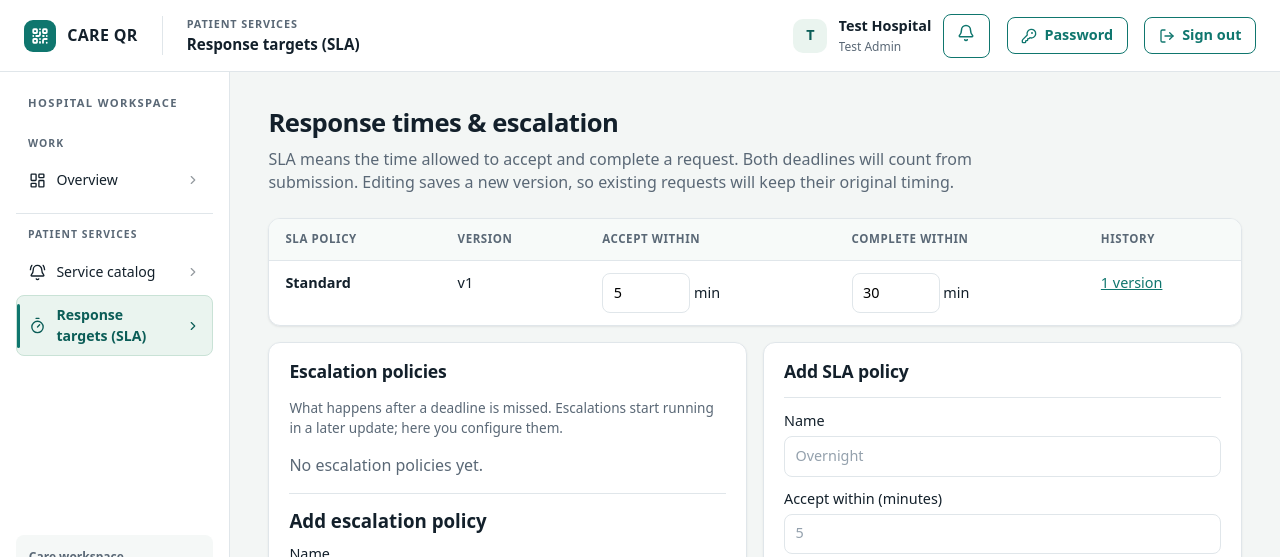
Test: SLA editing interactions › submits one update on repeated clicks and waits for the confirmed server version
The width and height of the screenshot is (1280, 557).
Clear the number field named "Standard accept minutes": [646, 293] box [602,273,690,313]
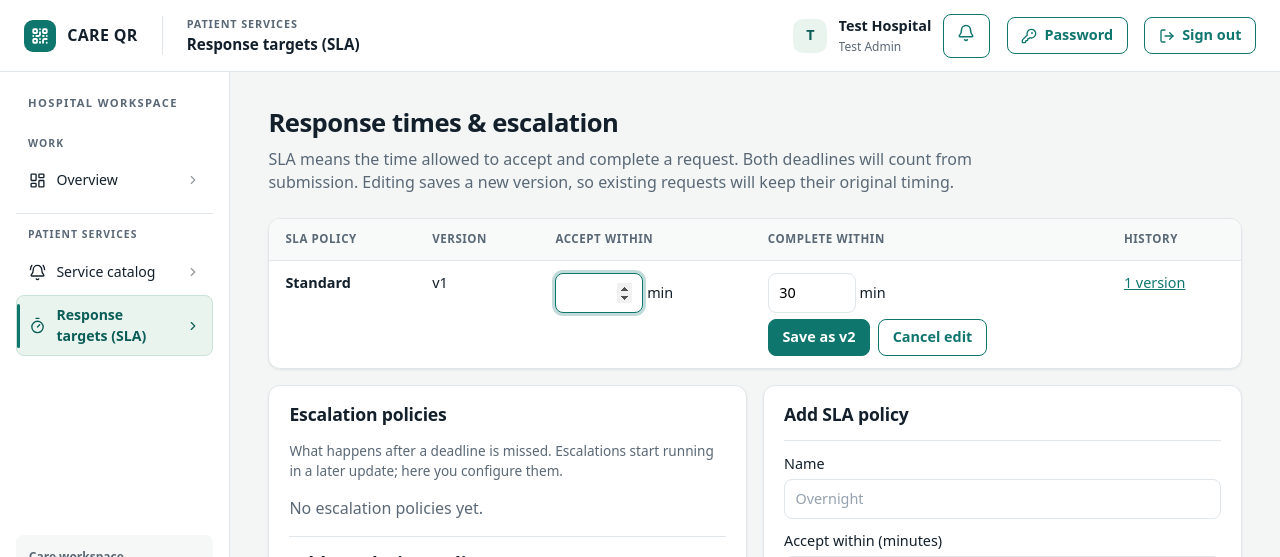
In the number field named "Standard accept minutes": [599, 293] box [555,273,643,313], type "7"
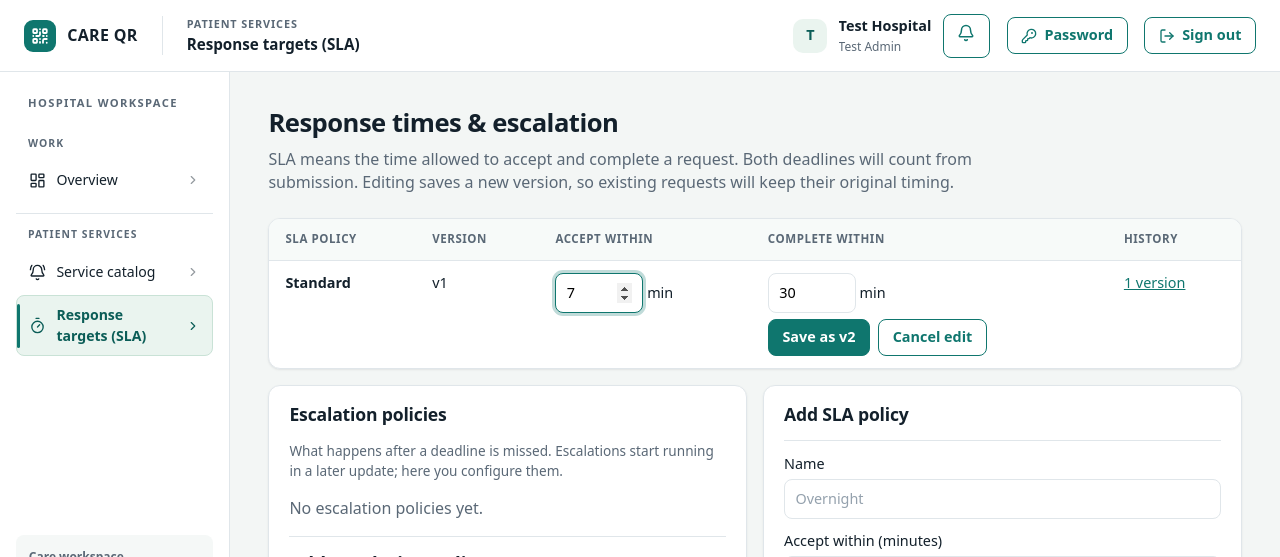
Double-click the button "Save as v2": [819, 337] box [768,319,870,356]
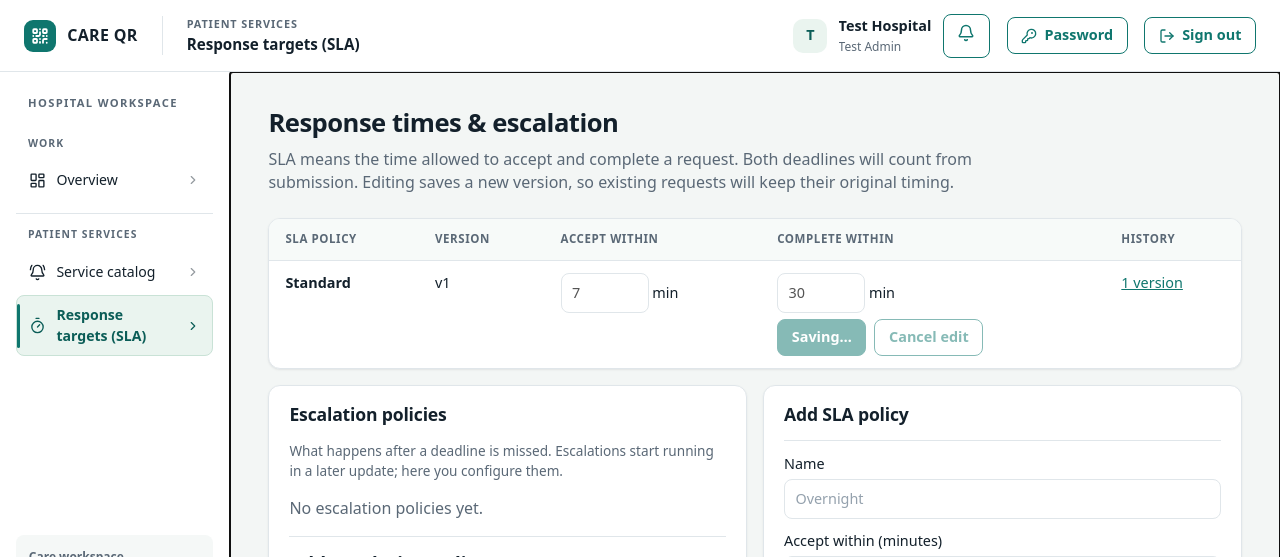
Expected: the button "Saving…" is disabled
Expected: the number field named "Standard accept minutes" is disabled, [561,273,649,313]
Expected: the number field named "Standard complete minutes" is disabled, [777,273,865,313]
Click the button "Saving…": [822, 337] box [777,319,866,356]
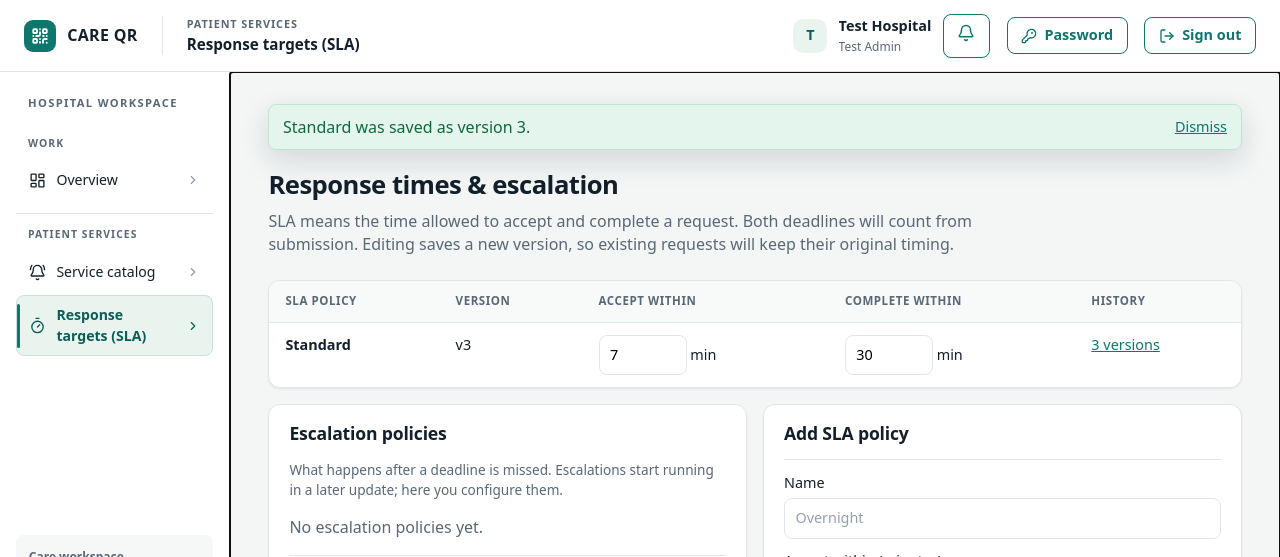
Expected: the text "Standard was saved as version 3." is shown, [283,116,530,139]
Expected: the button "Saving…" is gone
